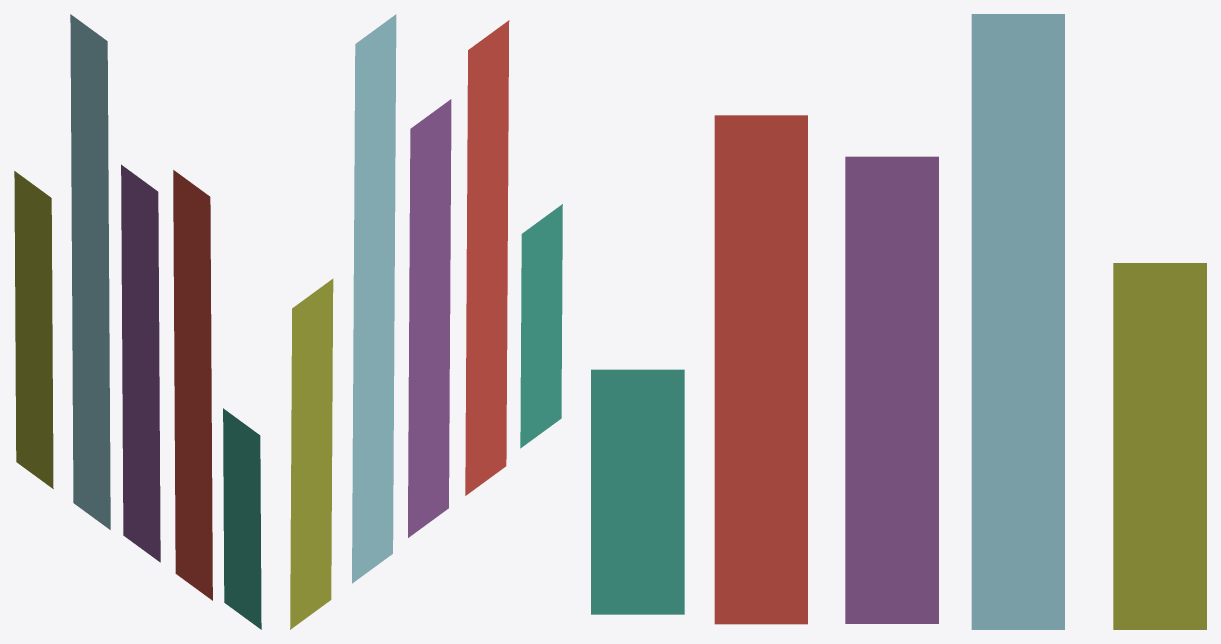
File: Grama1d.fbx
3 views of the same model, side by side, from view 1: azimuth 30°, elevation 25°; view 2: azimuth 150°, elevation 25°; view 3: azimuth 270°, elevation 25° (orthographic). The views are drawn at different scales.
Visible parts, largest first — view 1: Plane.002, Plane.008, Plane.005, Plane, Plane.007; view 2: Plane.002, Plane.008, Plane.005, Plane, Plane.007; view 3: Plane.002, Plane.008, Plane.005, Plane, Plane.007.
Part boxes in pixels (x1=…): Plane.002: x1=70, y1=14, x2=110, y2=529; Plane.008: x1=173, y1=170, x2=212, y2=600; Plane.005: x1=121, y1=164, x2=160, y2=562; Plane: x1=14, y1=171, x2=53, y2=488; Plane.007: x1=223, y1=408, x2=261, y2=629; Plane.002: x1=352, y1=14, x2=396, y2=583; Plane.008: x1=465, y1=20, x2=509, y2=495; Plane.005: x1=408, y1=99, x2=451, y2=537; Plane: x1=290, y1=278, x2=333, y2=629; Plane.007: x1=520, y1=204, x2=562, y2=448; Plane.002: x1=971, y1=14, x2=1064, y2=629; Plane.008: x1=714, y1=115, x2=807, y2=624; Plane.005: x1=845, y1=156, x2=938, y2=623; Plane: x1=1113, y1=263, x2=1206, y2=629; Plane.007: x1=591, y1=369, x2=684, y2=614.
Size of the model in its own units: 0.3085 by 48.37 by 43.94.
